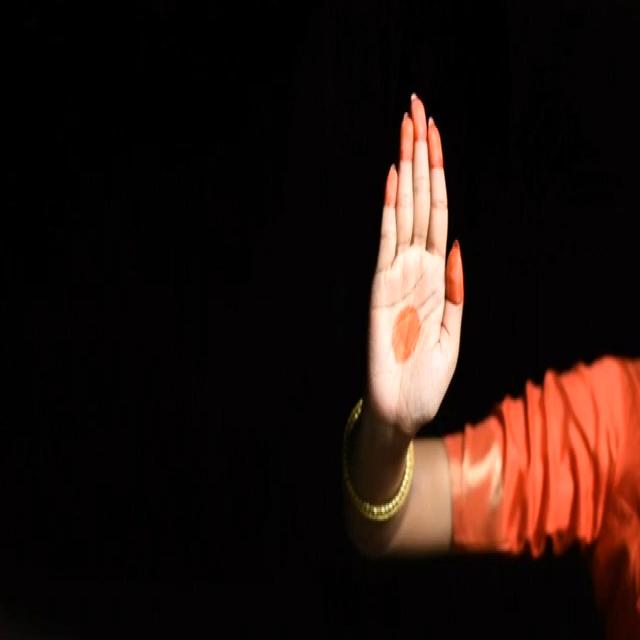Pataka: (321, 76, 504, 563)
bangle: (337, 430, 419, 538)
